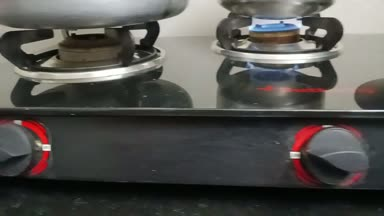flame_gas_on: (228, 12, 371, 186)
